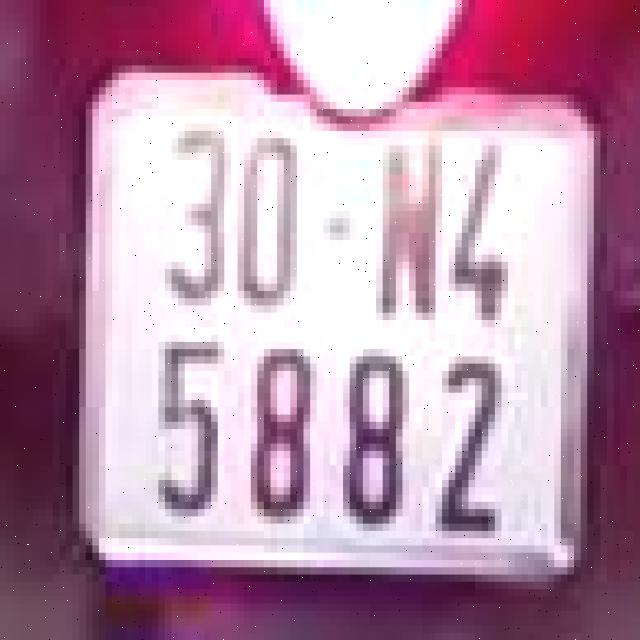0: (234, 120, 307, 316)
2: (432, 349, 512, 546)
3: (155, 113, 228, 309)
4: (448, 131, 514, 342)
5: (148, 331, 228, 527)
8: (330, 338, 416, 535), (241, 327, 320, 531)
N: (366, 135, 452, 338)
